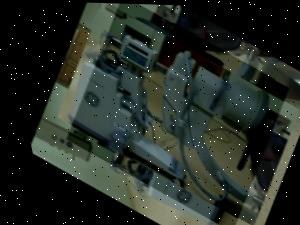Bed: (161, 5, 284, 90)
C_arm: (39, 2, 300, 225)
